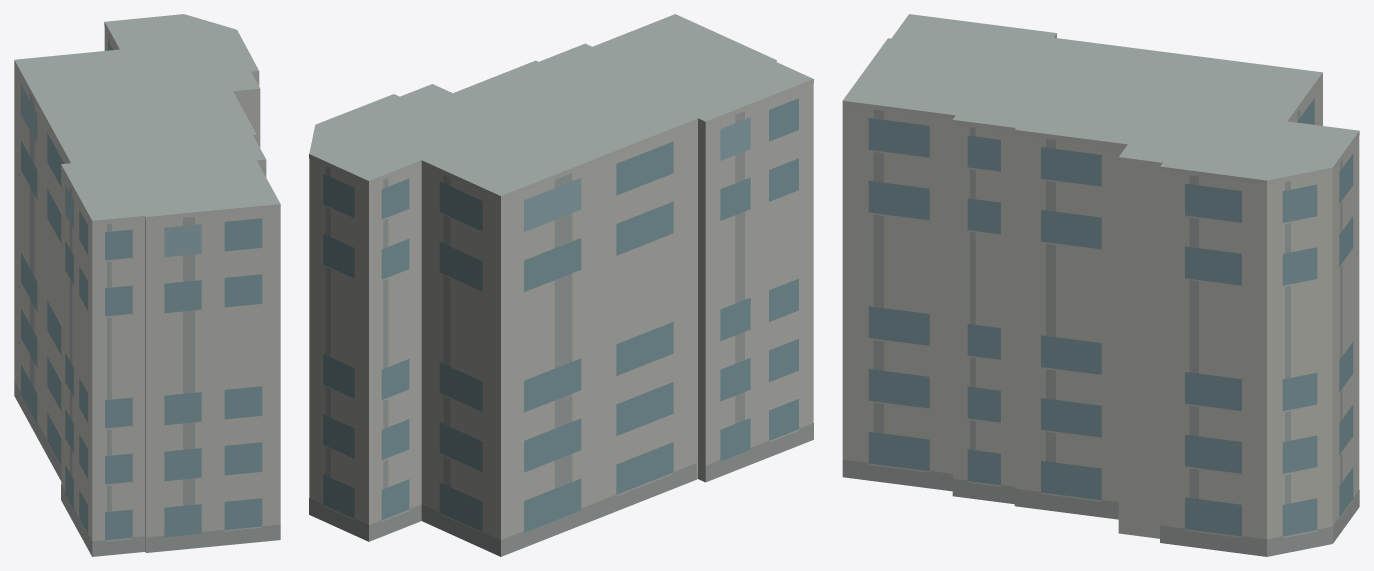
Rendered from survey-upis-32633039.glb.
3 views of the same model, side by side, from view 1: azimuth 30°, elevation 25°; view 2: azimuth 150°, elevation 25°; view 3: azimuth 270°, elevation 25° (orthographic). The views are drawn at different scales.
Visible parts, largest first — view 1: survey-upis-32633039.tmp; view 2: survey-upis-32633039.tmp; view 3: survey-upis-32633039.tmp.
Boxes of the visible parts, x1,y1,x2,y2 form: survey-upis-32633039.tmp: (14, 14, 280, 556); survey-upis-32633039.tmp: (309, 14, 813, 556); survey-upis-32633039.tmp: (842, 14, 1359, 556).
Size of the model in its own units: 17.37 by 18.3 by 22.79.
